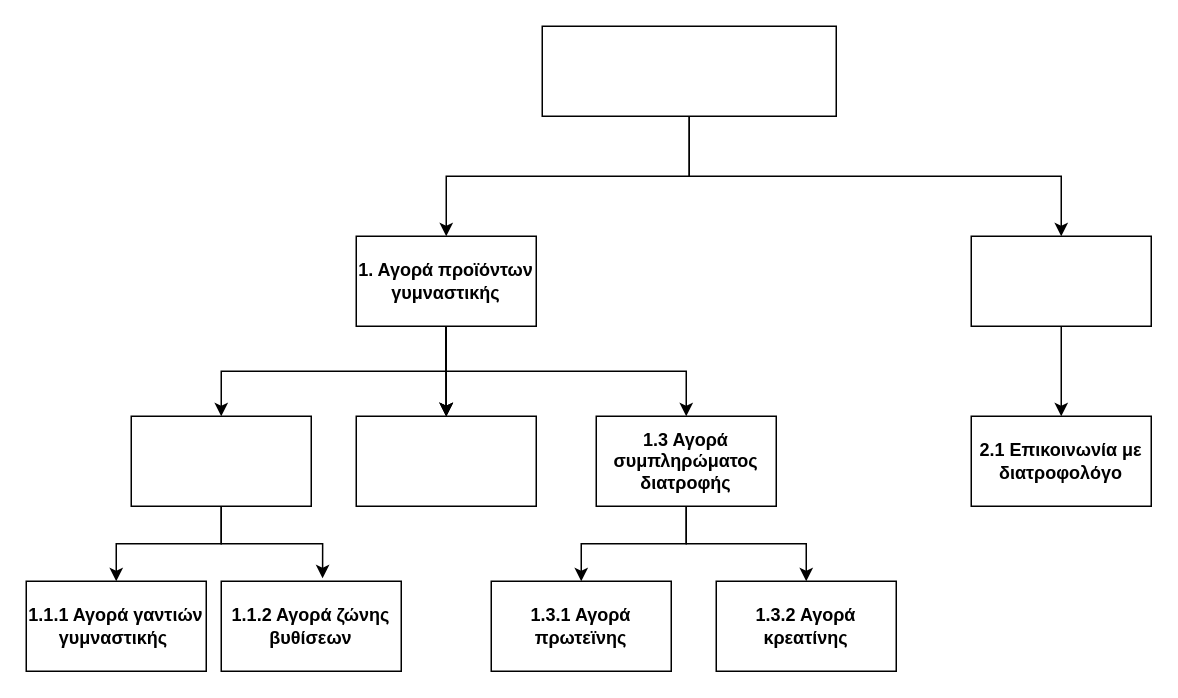
Some shapes in this 1178 by 698 pixel diagram are drawn without their labels. The shapes that lost their labels are listed below. From the top down, each one's centre as x and y in pixels, then its label:
At point 688,70: "0. Αγορά προϊόντων γυμναστικής και προγραμμάτων διατροφής".
At point 1060,280: "2. Αγορά προγραμμάτων διατροφής".
At point 220,460: "1.1 Αγορά εξοπλισμού γυμναστικής".
At point 445,460: "1.2 Αγορά ενεργειακού ποτού".
